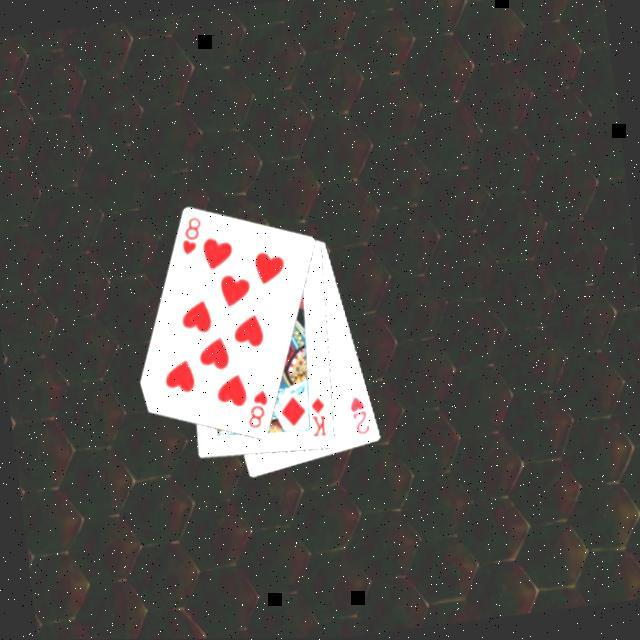2H: (344, 394, 372, 440)
8H: (240, 388, 273, 435), (173, 214, 206, 261)
KD: (304, 396, 330, 443)
